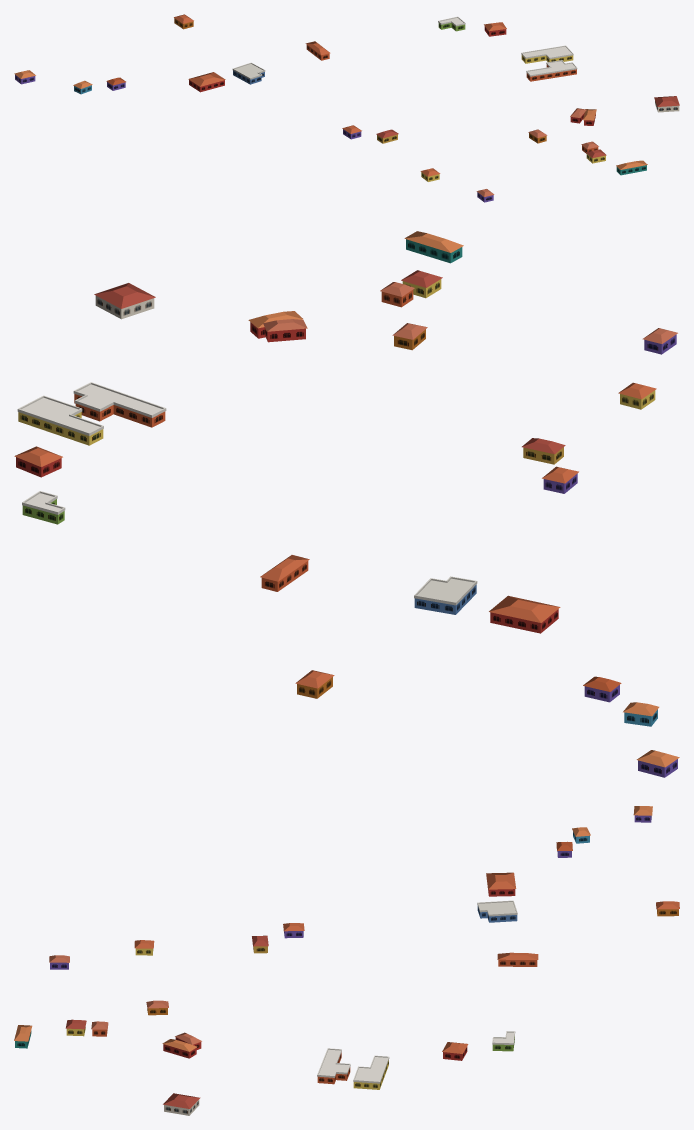
The model's file is msb_oranjestad_m10_m2.glb.
3 renders of one model, top to bottom at view 1: azimuth 30°, elevation 25°; view 2: azimuth 150°, elevation 25°; view 3: azimuth 270°, elevation 25°, orthographic. The views are drawn at different scales.
Visible parts, largest first — view 1: msb_oranjestad_m10_m2_lod0; view 2: msb_oranjestad_m10_m2_lod0; view 3: msb_oranjestad_m10_m2_lod0.
Boxes of the visible parts, x1,y1,x2,y2 form: msb_oranjestad_m10_m2_lod0: (14, 14, 679, 202); msb_oranjestad_m10_m2_lod0: (14, 231, 679, 777); msb_oranjestad_m10_m2_lod0: (14, 806, 679, 1115).
Size of what is drawn, in the model's own units: 303 by 12.58 by 288.
3 materials, 1 textured.
